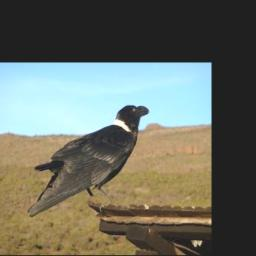Crow: (28, 101, 151, 218)
